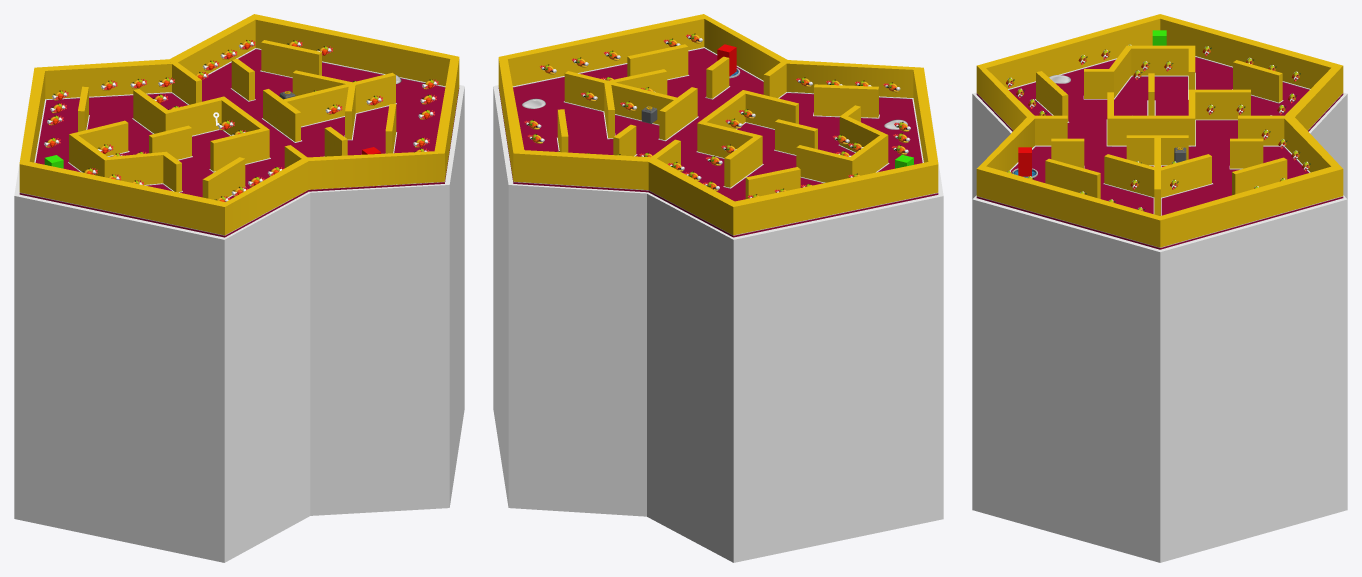
Rendered from Level_24.fbx.
3 renders of one model, left to right at view 1: azimuth 30°, elevation 25°; view 2: azimuth 150°, elevation 25°; view 3: azimuth 270°, elevation 25°, orthographic. The views are drawn at different scales.
Visible parts, largest first — view 1: Base_1, Compound, Base, Walls_9, Walls_2, Walls_11, Walls_7, Walls_8, Walls_4, Walls_3, Walls_10, Walls_15 (+9 smaller); view 2: Base_1, Compound, Base, Walls_15, Walls_10, Walls, Walls_7, Walls_9, Walls_8, Walls_14, Walls_3, Walls_20 (+9 smaller); view 3: Base_1, Compound, Base, Walls_12, Walls_1, Walls_14, Walls_16, Walls_17, Walls_20, Walls, Walls_3, Walls_2 (+7 smaller).
Boxes of the visible parts, left/top/right/bottom form: Base_1: left=14, top=85, right=464, bottom=562; Compound: left=19, top=14, right=459, bottom=235; Base: left=19, top=49, right=459, bottom=237; Walls_9: left=209, top=127, right=270, bottom=172; Walls_2: left=260, top=40, right=321, bottom=78; Walls_11: left=104, top=151, right=167, bottom=185; Walls_7: left=337, top=72, right=396, bottom=117; Walls_8: left=168, top=96, right=226, bottom=136; Walls_4: left=281, top=86, right=340, bottom=127; Walls_3: left=261, top=89, right=301, bottom=142; Walls_10: left=68, top=120, right=129, bottom=164; Walls_15: left=202, top=157, right=246, bottom=199; Base_1: left=493, top=85, right=943, bottom=562; Compound: left=498, top=14, right=938, bottom=235; Base: left=498, top=48, right=938, bottom=237; Walls_15: left=813, top=84, right=879, bottom=118; Walls_10: left=796, top=145, right=855, bottom=183; Walls: left=627, top=44, right=689, bottom=80; Walls_7: left=564, top=71, right=623, bottom=116; Walls_9: left=740, top=90, right=798, bottom=129; Walls_8: left=696, top=121, right=756, bottom=158; Walls_14: left=723, top=134, right=763, bottom=188; Walls_3: left=658, top=87, right=698, bottom=141; Walls_20: left=745, top=167, right=800, bottom=198; Base_1: left=972, top=92, right=1347, bottom=562; Compound: left=976, top=14, right=1343, bottom=247; Base: left=976, top=57, right=1343, bottom=249; Walls_12: left=1127, top=45, right=1188, bottom=76; Walls_1: left=1112, top=115, right=1190, bottom=146; Walls_14: left=1188, top=89, right=1250, bottom=120; Walls_16: left=1161, top=154, right=1212, bottom=198; Walls_17: left=1103, top=154, right=1154, bottom=197; Walls_20: left=1232, top=60, right=1283, bottom=103; Walls: left=1045, top=158, right=1100, bottom=198; Walls_3: left=1126, top=135, right=1188, bottom=165; Walls_2: left=1232, top=157, right=1287, bottom=195.
Size of the model in its own units: 254 by 191 by 191.
